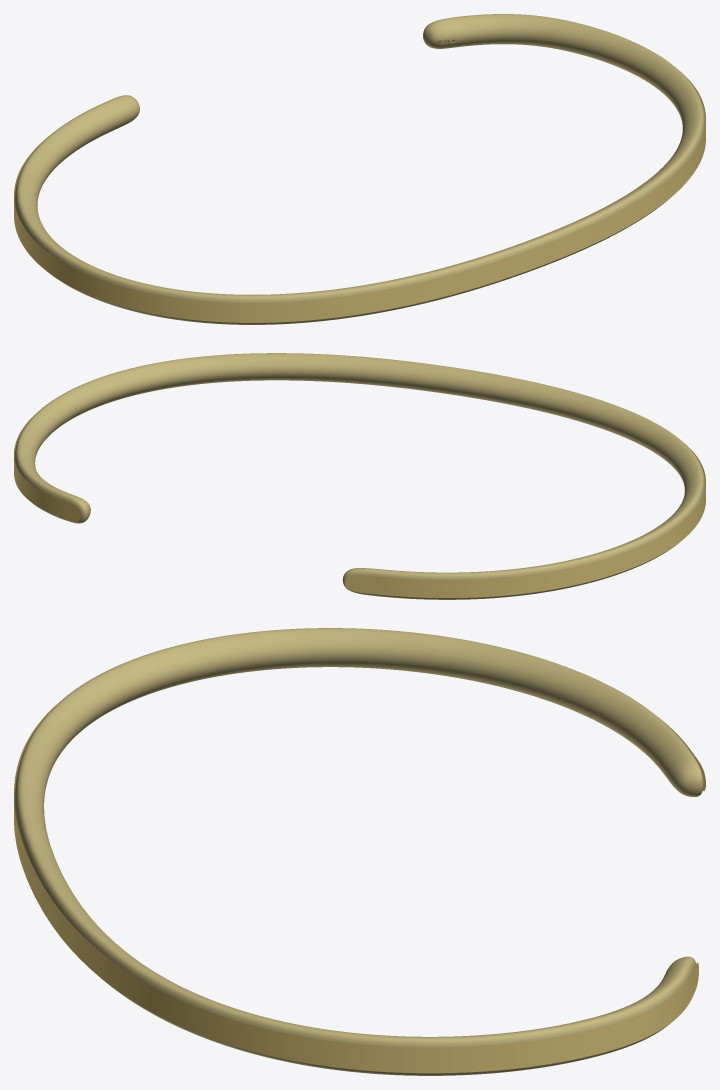
File: bold-gold10.glb
3 renders of one model, top to bottom at view 1: azimuth 30°, elevation 25°; view 2: azimuth 150°, elevation 25°; view 3: azimuth 270°, elevation 25°, orthographic. The views are drawn at different scales.
Visible parts, largest first — view 1: bold-body.003, bpld-omote.003; view 2: bold-body.003, bpld-omote.003; view 3: bold-body.003, bpld-omote.003.
Boxes of the visible parts, left/top/right/bottom form: bold-body.003: left=14, top=14, right=705, bottom=324; bpld-omote.003: left=14, top=72, right=705, bottom=322; bold-body.003: left=14, top=353, right=705, bottom=599; bpld-omote.003: left=14, top=413, right=705, bottom=597; bold-body.003: left=14, top=628, right=703, bottom=1075; bpld-omote.003: left=14, top=704, right=705, bottom=1073.
Size of the model in its own units: 3.4 by 0.1422 by 2.39.
Materials: 2 (2 with a texture image).
